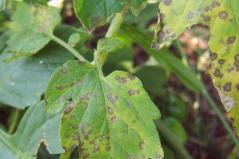Tomato Septoria leaf spot: (37, 56, 167, 159), (155, 0, 239, 159)
